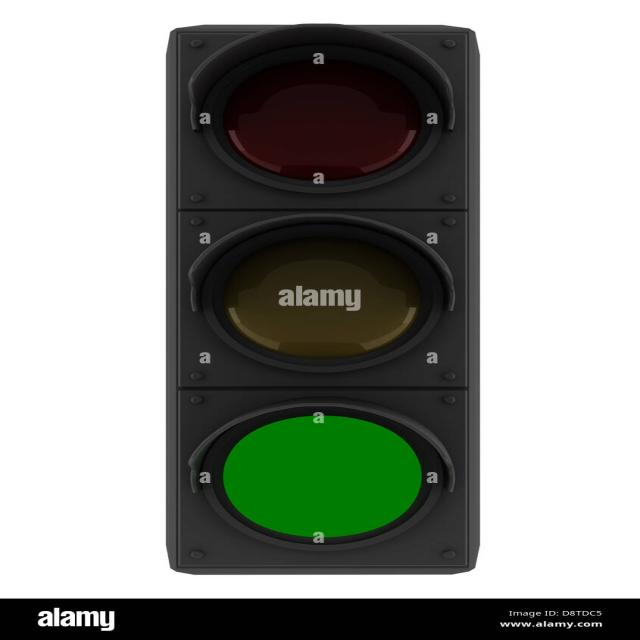green: (196, 400, 448, 549)
